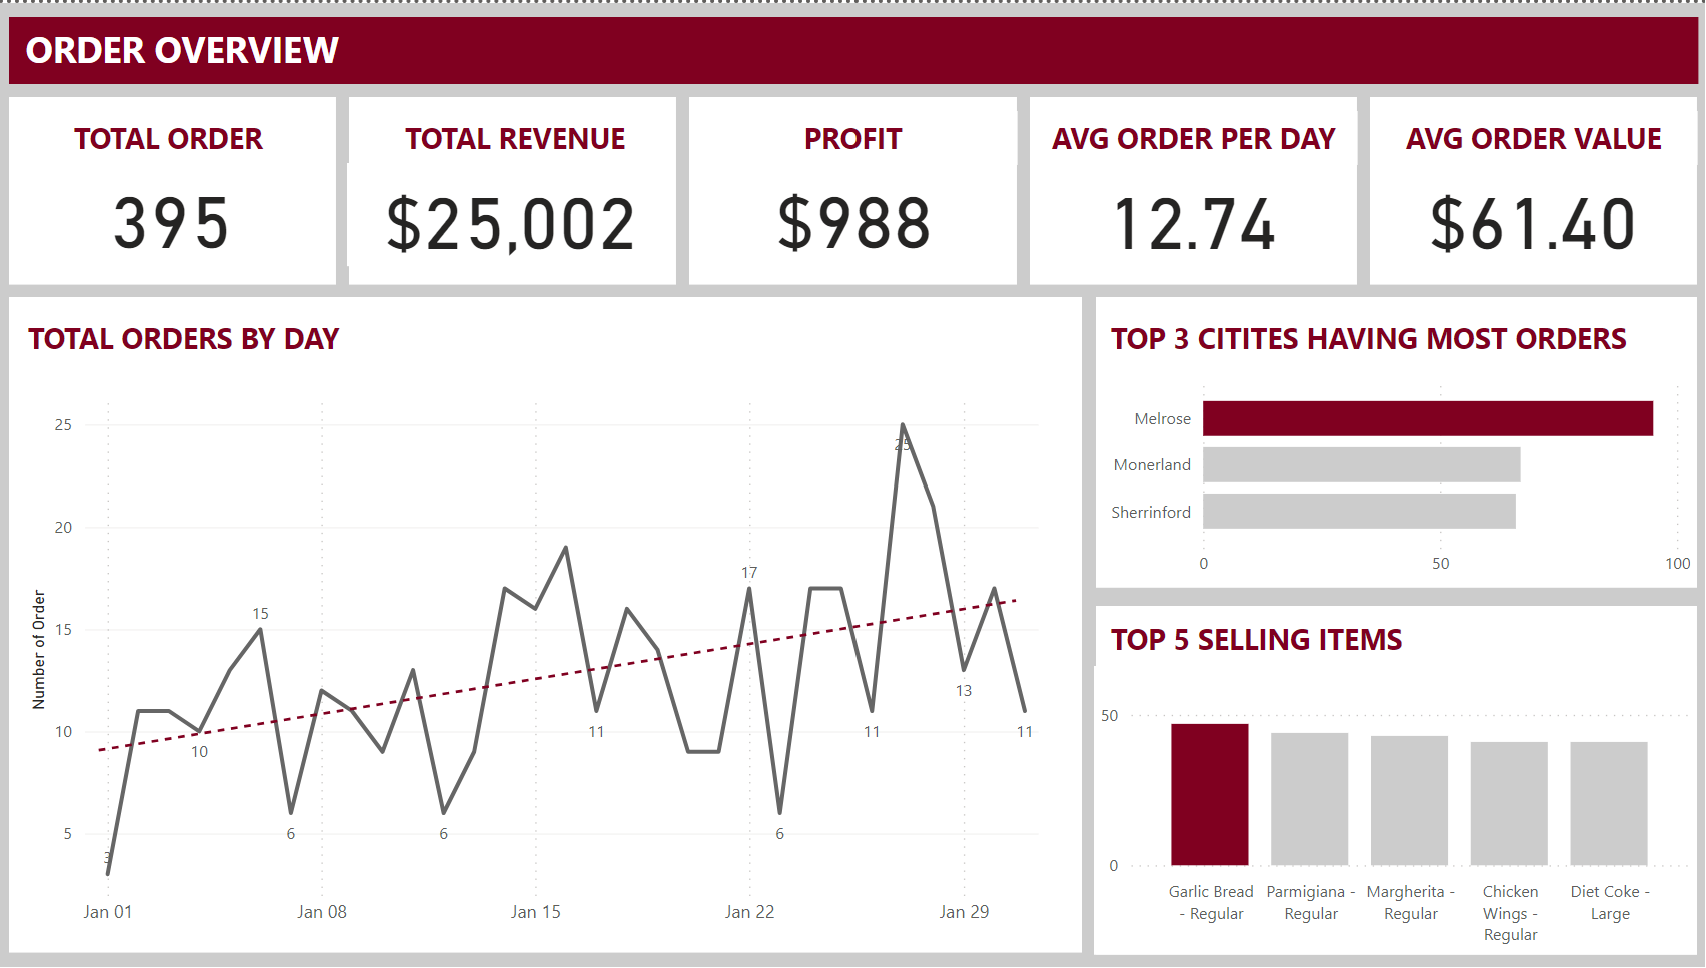

Layout of this report page (visuals, bound fields, positions):
{"tool":"powerbi","page":{"name":"Order","canvas":[1280,720],"ordinal":0},"visuals":[{"type":"shape","box":[0,0,1280,720],"z":0},{"type":"shape","box":[10,70,244,140],"z":1000},{"type":"shape","box":[264,70,244,140],"z":2000},{"type":"shape","box":[518,70,244,140],"z":3000},{"type":"shape","box":[772,70,244,140],"z":4000},{"type":"shape","box":[10,220,800,488.6],"z":5000},{"type":"textbox","box":[32,80,195.7,40],"z":6000},{"type":"textbox","box":[291.4,80,194.3,40],"z":7000},{"type":"textbox","box":[518.6,80,244.3,40],"z":8000},{"type":"lineChart","title":"TOTAL ORDERS BY DAY","fields":{"Y":["CountNonNull(OrderHeader.OrderID)"],"Category":["OrderHeader.OrderDate"]},"box":[20.6,285.4,771,411.6],"z":9000},{"type":"textbox","box":[10,10,1260,50],"z":10000},{"type":"shape","box":[1026,70,244,140],"z":11000},{"type":"card","fields":{"Values":["Count(OrderHeader.OrderID)"]},"box":[42.9,120,177.1,75],"z":12000},{"type":"card","fields":{"Values":["All Measure.Total Revenue"]},"box":[263.4,119.4,244.2,76.8],"z":13000},{"type":"card","fields":{"Values":["All Measure.Profit"]},"box":[548.6,120,182.9,75],"z":14000},{"type":"textbox","box":[771.4,80,244.3,40],"z":15000},{"type":"card","fields":{"Values":["All Measure.Average Order per Day"]},"box":[801.2,119.4,182.5,76.8],"z":16000},{"type":"textbox","box":[20,230,334.3,40],"z":17000},{"type":"shape","box":[821.4,220,448.6,215.7],"z":18000},{"type":"clusteredBarChart","fields":{"Category":["Address.ShippingCity"],"Y":["CountNonNull(OrderHeader.OrderID)"]},"box":[821.4,270,448.6,165.7],"z":19000},{"type":"textbox","box":[827.1,230,437.1,40],"z":20000},{"type":"shape","box":[821.4,448.6,448.6,260],"z":21000},{"type":"clusteredColumnChart","fields":{"Category":["MenuItem.MenuItemName"],"Y":["CountNonNull(OrderDetail.OrderID)"]},"box":[820,494.3,450,215.7],"z":22000},{"type":"textbox","box":[827.1,454.3,437.1,40],"z":23000},{"type":"textbox","box":[1025.7,80,244.3,40],"z":24000},{"type":"card","fields":{"Values":["All Measure.Average Order Value per Day"]},"box":[1045.4,119.4,204.4,76.8],"z":25000}]}

Visuals, with their boxes in screenshot pixels (x1, y1, x2, y2), scaled from the page's 1280x720 canvas onto the 1706x968 screenshot:
shape: {"x1": 0, "y1": 0, "x2": 1705, "y2": 967}
shape: {"x1": 13, "y1": 94, "x2": 339, "y2": 282}
shape: {"x1": 352, "y1": 94, "x2": 677, "y2": 282}
shape: {"x1": 690, "y1": 94, "x2": 1016, "y2": 282}
shape: {"x1": 1029, "y1": 94, "x2": 1354, "y2": 282}
shape: {"x1": 13, "y1": 296, "x2": 1080, "y2": 953}
textbox: {"x1": 43, "y1": 108, "x2": 303, "y2": 161}
textbox: {"x1": 388, "y1": 108, "x2": 647, "y2": 161}
textbox: {"x1": 691, "y1": 108, "x2": 1017, "y2": 161}
"TOTAL ORDERS BY DAY" lineChart: {"x1": 27, "y1": 384, "x2": 1055, "y2": 937}
textbox: {"x1": 13, "y1": 13, "x2": 1693, "y2": 81}
shape: {"x1": 1367, "y1": 94, "x2": 1693, "y2": 282}
card - Count(OrderHeader.OrderID): {"x1": 57, "y1": 161, "x2": 293, "y2": 262}
card - All Measure.Total Revenue: {"x1": 351, "y1": 161, "x2": 677, "y2": 264}
card - All Measure.Profit: {"x1": 731, "y1": 161, "x2": 975, "y2": 262}
textbox: {"x1": 1028, "y1": 108, "x2": 1354, "y2": 161}
card - All Measure.Average Order per Day: {"x1": 1068, "y1": 161, "x2": 1311, "y2": 264}
textbox: {"x1": 27, "y1": 309, "x2": 472, "y2": 363}
shape: {"x1": 1095, "y1": 296, "x2": 1693, "y2": 586}
clusteredBarChart - Address.ShippingCity x CountNonNull(OrderHeader.OrderID): {"x1": 1095, "y1": 363, "x2": 1693, "y2": 586}
textbox: {"x1": 1102, "y1": 309, "x2": 1685, "y2": 363}
shape: {"x1": 1095, "y1": 603, "x2": 1693, "y2": 953}
clusteredColumnChart - MenuItem.MenuItemName x CountNonNull(OrderDetail.OrderID): {"x1": 1093, "y1": 665, "x2": 1693, "y2": 955}
textbox: {"x1": 1102, "y1": 611, "x2": 1685, "y2": 665}
textbox: {"x1": 1367, "y1": 108, "x2": 1693, "y2": 161}
card - All Measure.Average Order Value per Day: {"x1": 1393, "y1": 161, "x2": 1666, "y2": 264}
